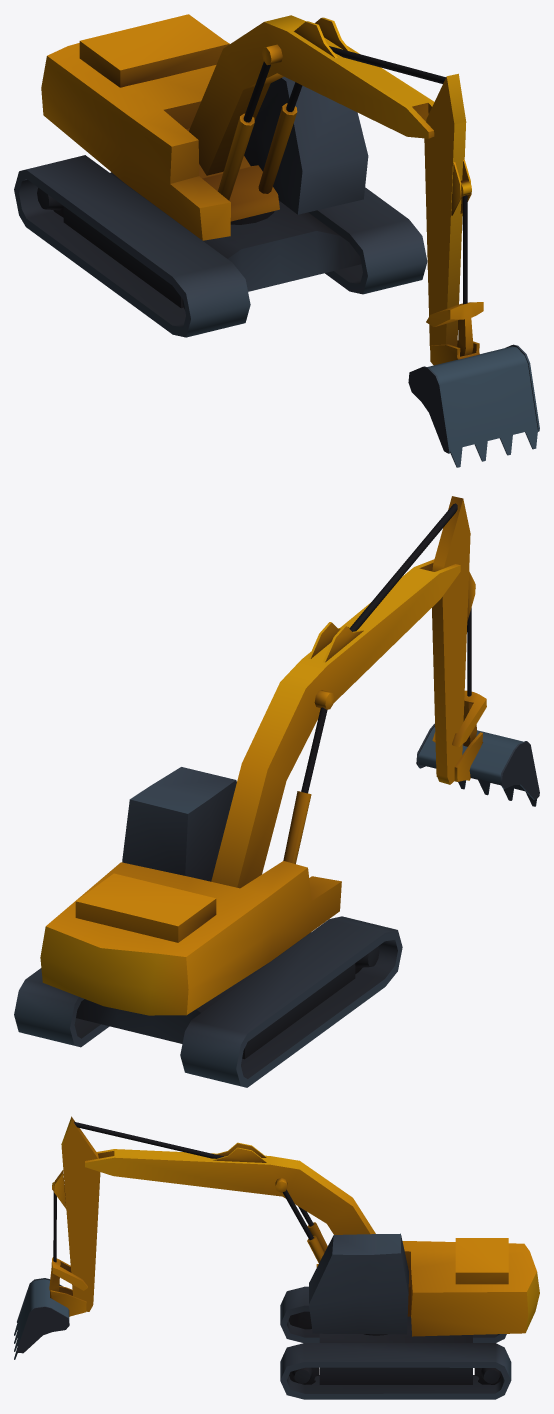
3 views of the same model, one above another, from view 1: azimuth 30°, elevation 25°; view 2: azimuth 150°, elevation 25°; view 3: azimuth 270°, elevation 25° (orthographic). The views are drawn at different scales.
Parts seen in each view (by area): view 1: base.896; view 2: base.896; view 3: base.896.
Part boxes in pixels (left/top/right/bottom): base.896: left=14, top=14, right=539, bottom=467; base.896: left=14, top=496, right=539, bottom=1087; base.896: left=14, top=1116, right=539, bottom=1399.
Size of the model in its own units: 0.1692 by 0.2501 by 0.5.
